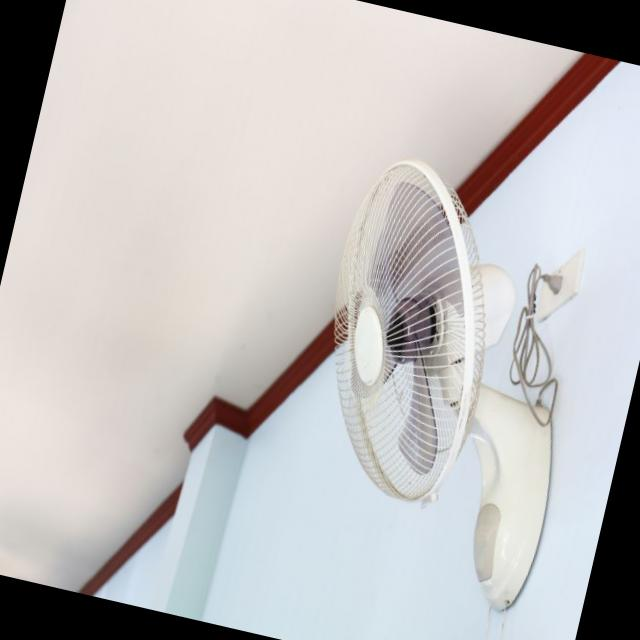fan: (261, 135, 640, 631)
